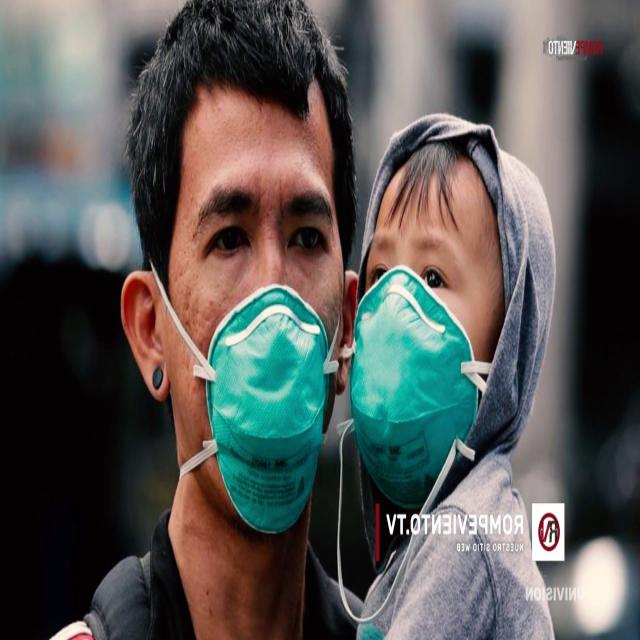adult: (120, 0, 368, 640), (351, 121, 554, 640)
